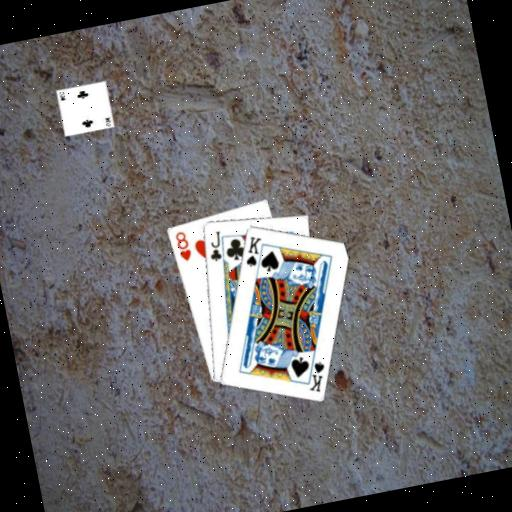8H: (171, 228, 194, 265)
JC: (202, 227, 227, 264)
KS: (299, 353, 331, 396), (238, 231, 268, 269)
